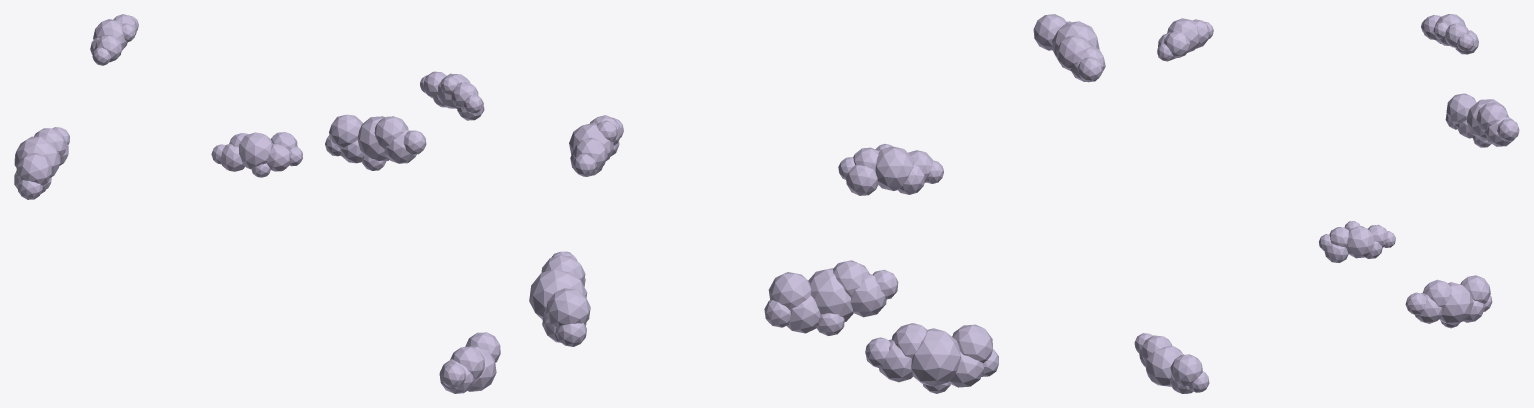
Rendered from clouds_02.gltf.
3 renders of one model, left to right at view 1: azimuth 30°, elevation 25°; view 2: azimuth 150°, elevation 25°; view 3: azimuth 270°, elevation 25°, orthographic. The views are drawn at different scales.
Parts seen in each view (by area): view 1: Icosphere.006, Icosphere.015, Icosphere.013, Icosphere.024, Icosphere.003, Icosphere.009; view 2: Icosphere.024, Icosphere.013, Icosphere.006, Icosphere.009, Icosphere.015, Icosphere.003; view 3: Icosphere.006, Icosphere.024, Icosphere.013, Icosphere.003, Icosphere.015, Icosphere.009.
Part boxes in pixels (x1,y1,x2,y2): Icosphere.006: (325, 114, 426, 170); Icosphere.015: (211, 132, 302, 177); Icosphere.013: (14, 127, 69, 199); Icosphere.024: (439, 332, 500, 393); Icosphere.003: (420, 71, 484, 120); Icosphere.009: (90, 14, 138, 65); Icosphere.024: (764, 260, 898, 335); Icosphere.013: (865, 323, 998, 393); Icosphere.006: (529, 251, 590, 346); Icosphere.009: (838, 144, 943, 195); Icosphere.015: (1033, 14, 1105, 82); Icosphere.003: (569, 115, 623, 176); Icosphere.006: (1405, 275, 1492, 328); Icosphere.024: (1134, 333, 1209, 393); Icosphere.013: (1445, 93, 1519, 147); Icosphere.003: (1319, 221, 1395, 262); Icosphere.015: (1157, 18, 1213, 61); Icosphere.009: (1421, 14, 1478, 54).
Bounding box in the file's own units: 2.98 × 2.22 × 2.75.
